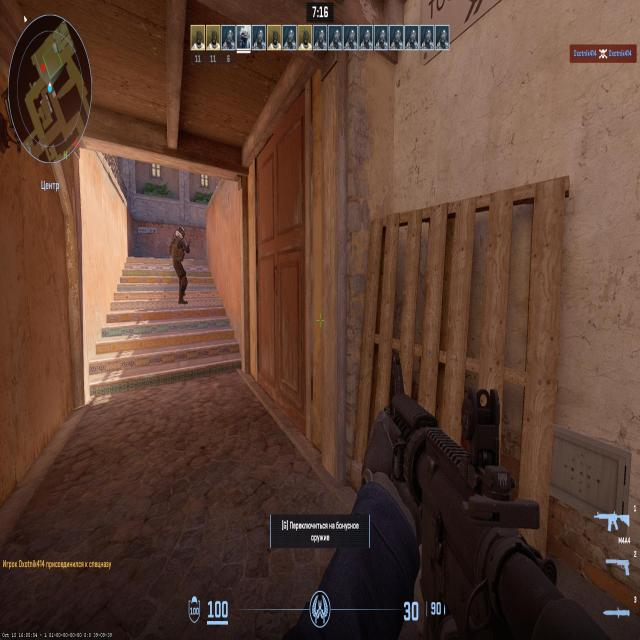CT: (172, 224, 188, 304)
CT_heat: (178, 228, 184, 238)
